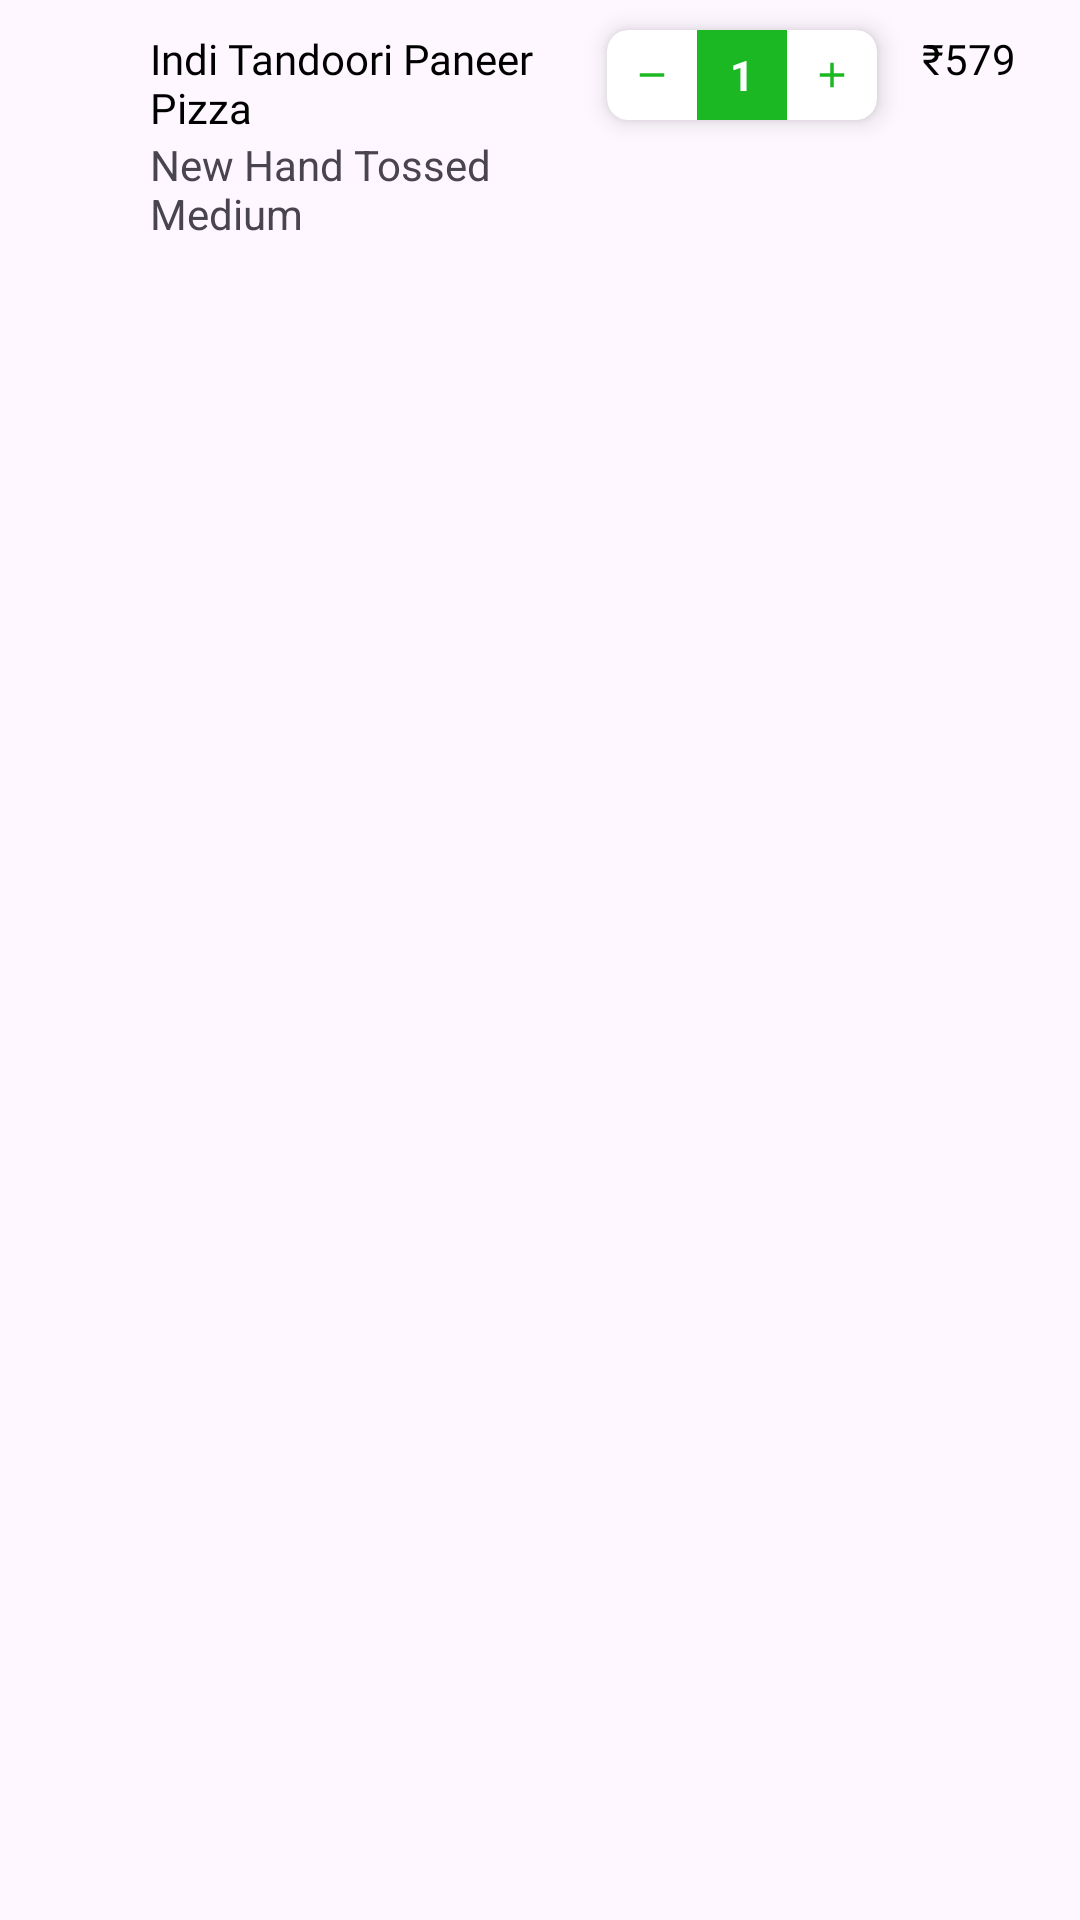

Screen size 1080 × 1920. Icon name, then its center in pixels as [x,y]:
add: [832,75]
